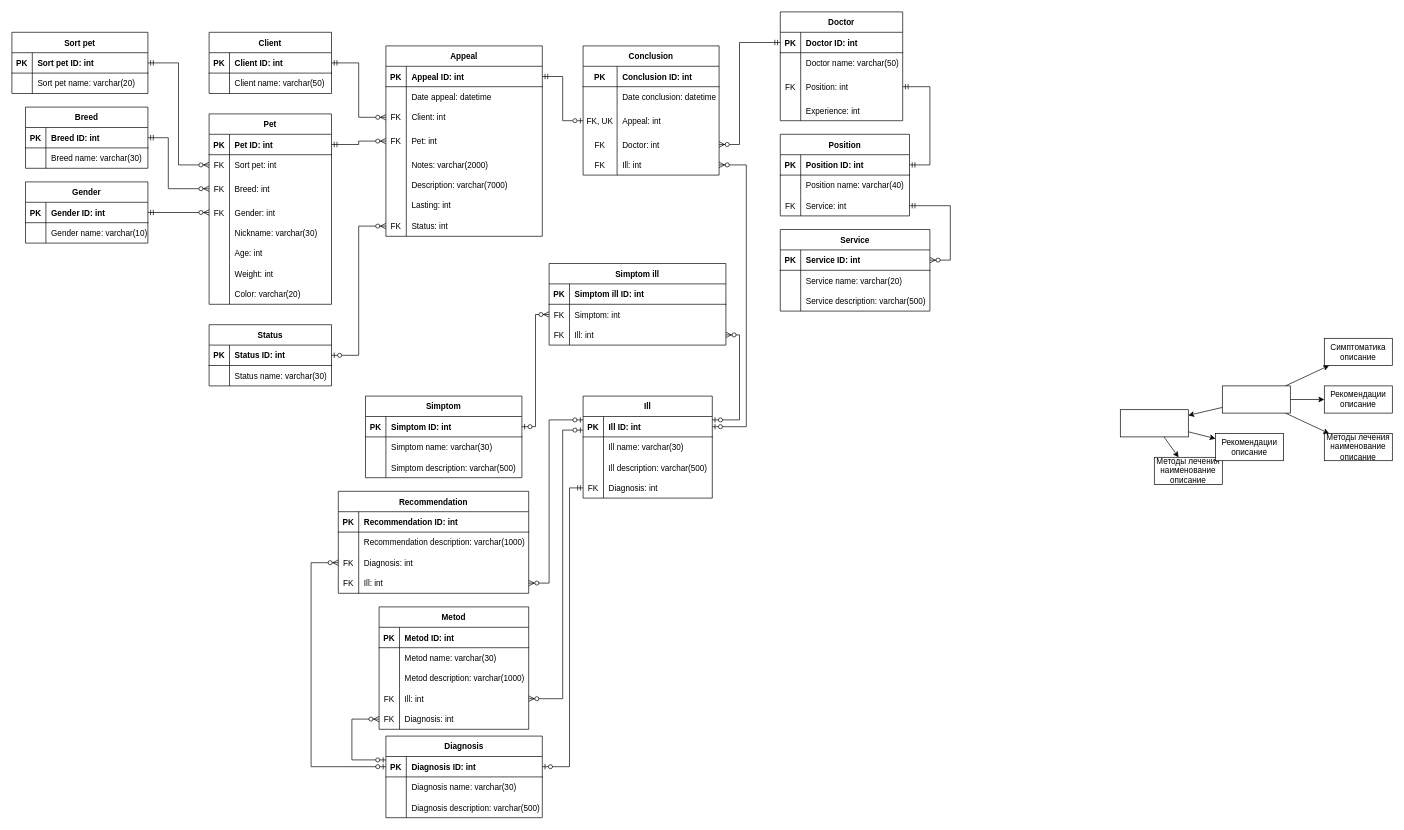
The diagram is 1404 pixels wide and 830 high, and some of its shapes have lost their labels. The shapes that lost their labels are listed below. From the top down, each one's centre as x and y in pixels, then its label:
At point (1256, 399): "Заболевание описание".
At point (1154, 423): "Диагноз".
